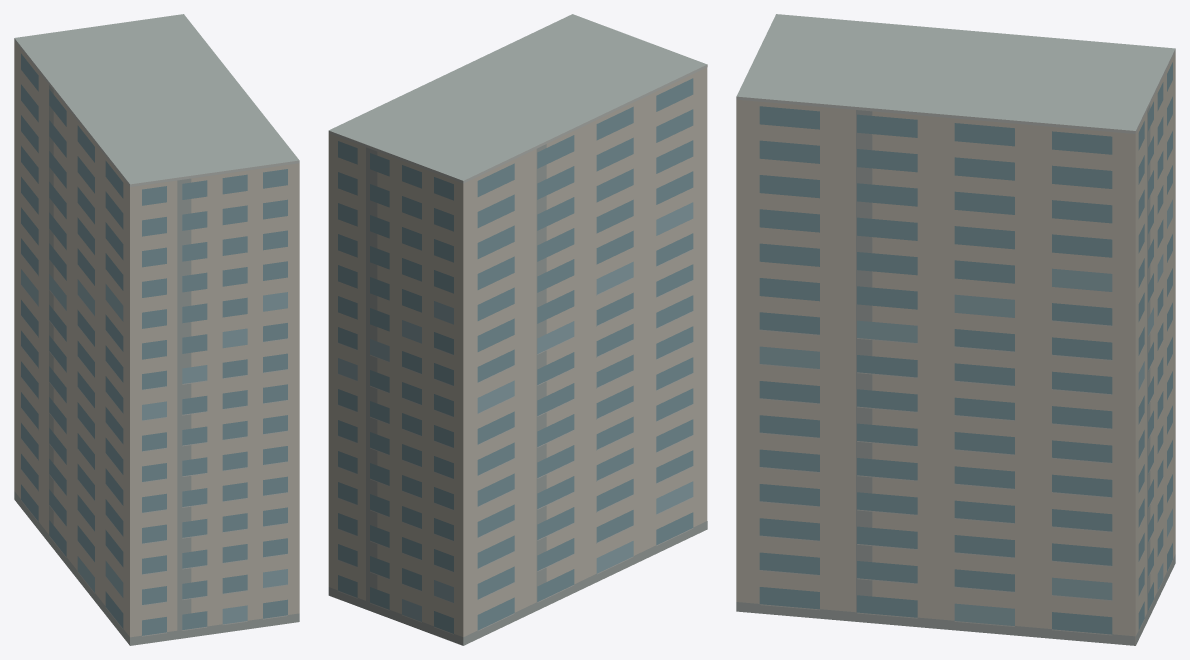
File: residential-82e646bd-5da8-409b-869f-e5555e0681bc.glb
3 views of the same model, side by side, from view 1: azimuth 30°, elevation 25°; view 2: azimuth 150°, elevation 25°; view 3: azimuth 270°, elevation 25° (orthographic). The views are drawn at different scales.
Parts seen in each view (by area): view 1: residential-82e646bd-5da8-409b-869f-e5555e0681bc.tmp; view 2: residential-82e646bd-5da8-409b-869f-e5555e0681bc.tmp; view 3: residential-82e646bd-5da8-409b-869f-e5555e0681bc.tmp.
Part boxes in pixels (x1=…): residential-82e646bd-5da8-409b-869f-e5555e0681bc.tmp: x1=14, y1=14, x2=299, y2=645; residential-82e646bd-5da8-409b-869f-e5555e0681bc.tmp: x1=328, y1=14, x2=707, y2=645; residential-82e646bd-5da8-409b-869f-e5555e0681bc.tmp: x1=736, y1=14, x2=1175, y2=645.
Size of the model in its own units: 19.99 by 41 by 31.7.
